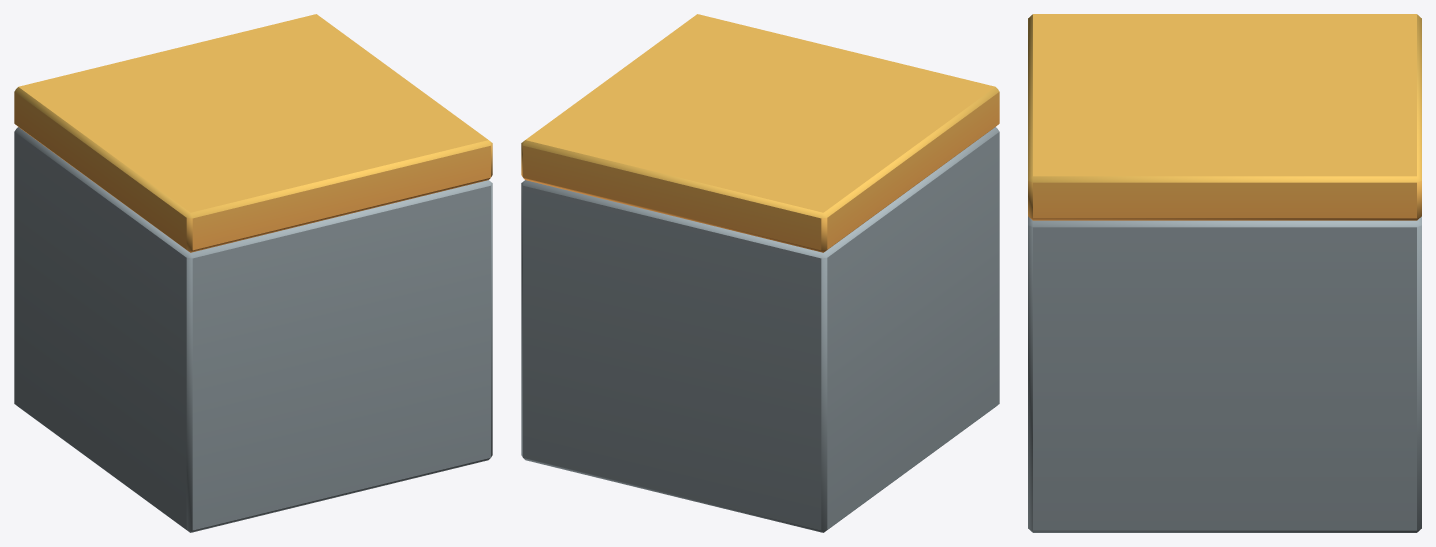
The model's file is platform_4x4x4_yellow.glb.
3 renders of one model, left to right at view 1: azimuth 30°, elevation 25°; view 2: azimuth 150°, elevation 25°; view 3: azimuth 270°, elevation 25°, orthographic. The views are drawn at different scales.
Visible parts, largest first — view 1: platform_4x4x4_yellow; view 2: platform_4x4x4_yellow; view 3: platform_4x4x4_yellow.
Part boxes in pixels (x1,y1,x2,y2): platform_4x4x4_yellow: (14,14,492,532); platform_4x4x4_yellow: (521,14,999,532); platform_4x4x4_yellow: (1028,14,1421,532).
Size of the model in its own units: 4 by 4 by 4.
Materials: 1 (1 with a texture image).
